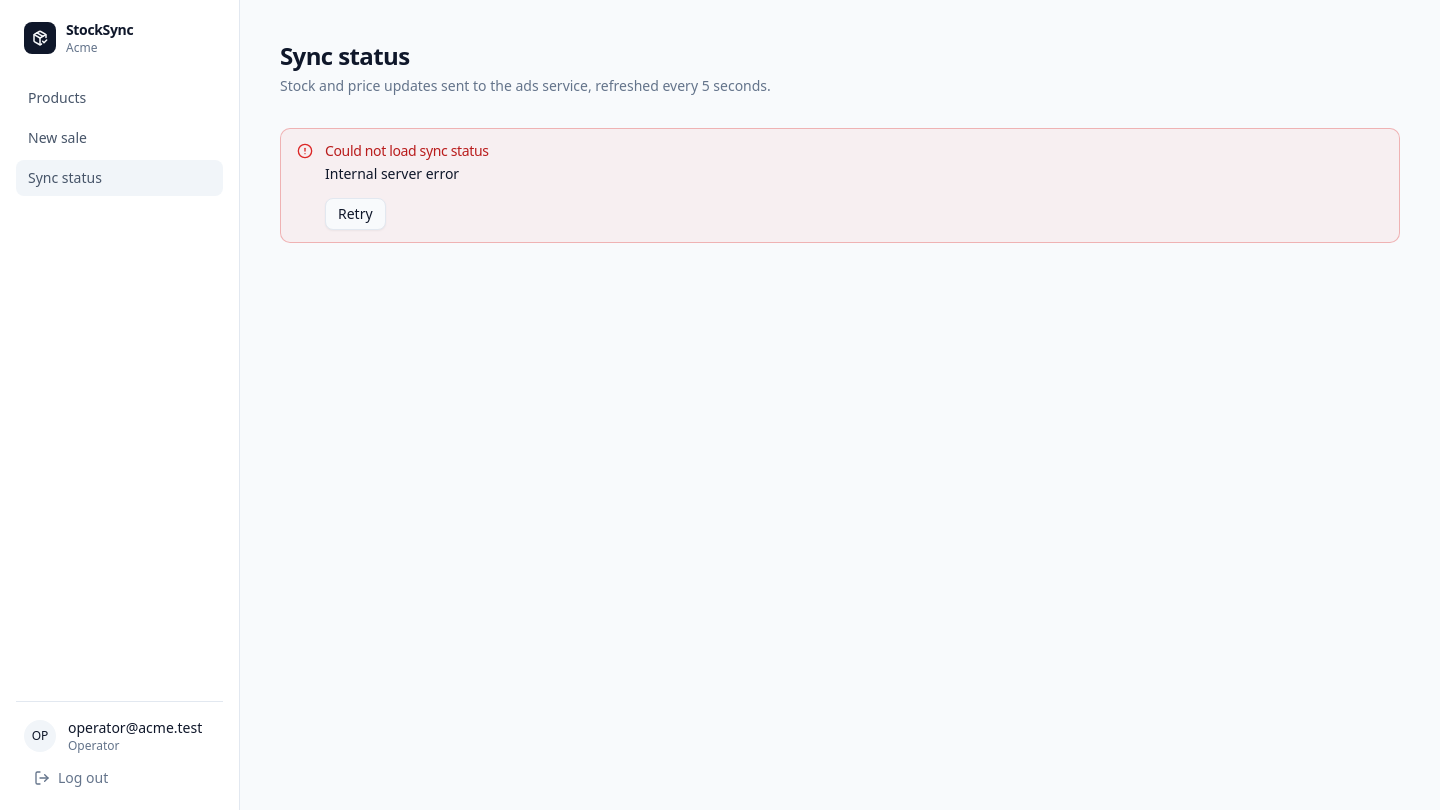
Test: sync status loading and errors › shows the error and requests the status again on Retry
Expected: the message shows "Could not load sync status", x1=325 y1=141 x2=489 y2=160
Expected: the message shows "Internal server error", x1=325 y1=164 x2=459 y2=183
Click the button "Retry" at (355, 214), box x1=325 y1=198 x2=386 y2=230
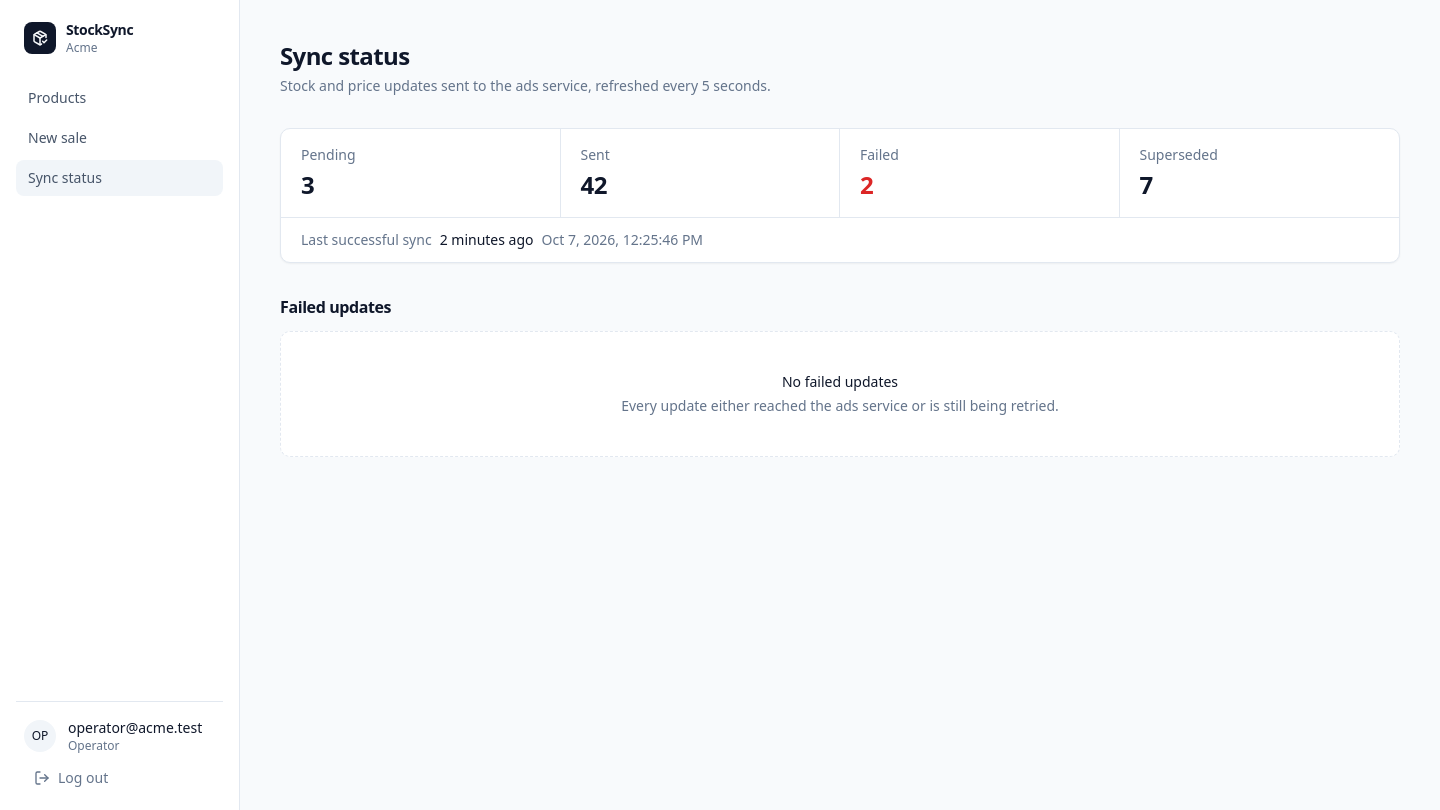
Now the text "Pending" is shown, box x1=301 y1=145 x2=356 y2=164
